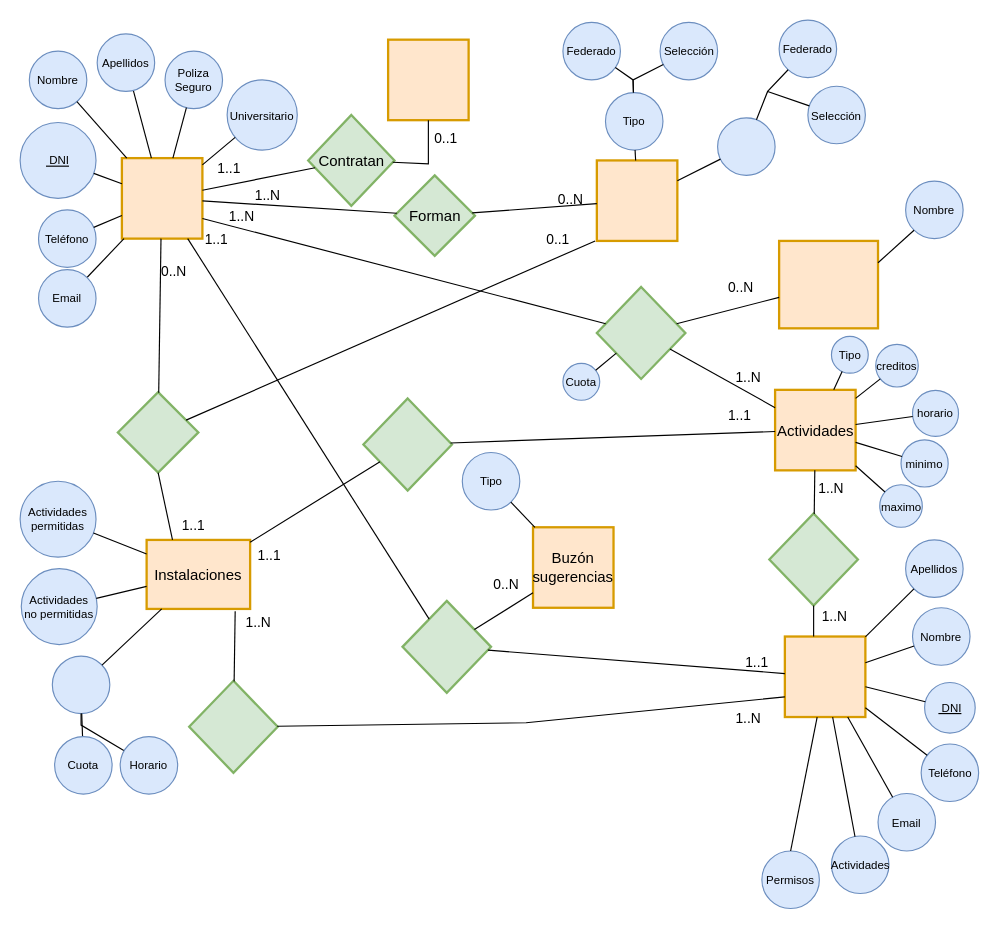
The diagram is 999 pixels wide and 929 high, and some of its shapes have lost their labels. The centre of each missing label's shape, as x and y in pixels:
"Competiciones" goes at point 828,284.
"Equipos" goes at point 636,200.
"escribe" goes at point 446,646.
"mantienen" goes at point 232,726.
"organiza" goes at point 813,559.
"participa" goes at point 640,332.
"Personal" goes at point 824,676.
"Reserva" goes at point 80,684.
"Seguro ULL" goes at point 427,79.
"Tipo coordin" goes at point 745,146.
"transcurren" goes at point 407,444.
"Usuarios" goes at point 161,197.
"Utilizan" goes at point 157,431.
